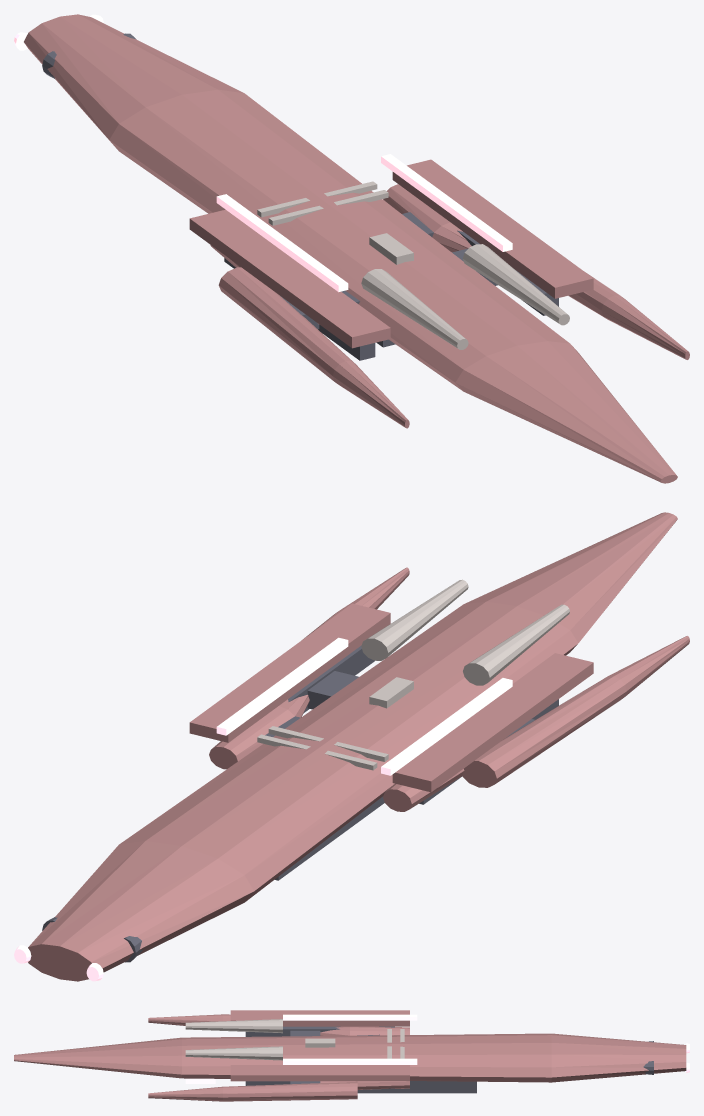
The picture shows the model from 3 angles, top to bottom: view 1: azimuth 30°, elevation 25°; view 2: azimuth 150°, elevation 25°; view 3: azimuth 270°, elevation 25°; orthographic projection. The views are drawn at different scales.
Size of the model in its own units: 5.41 by 1.65 by 19.55.
